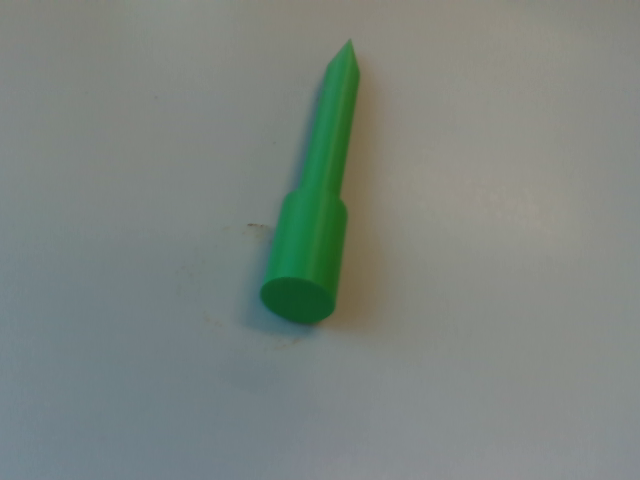Probe: (255, 34, 365, 339)
